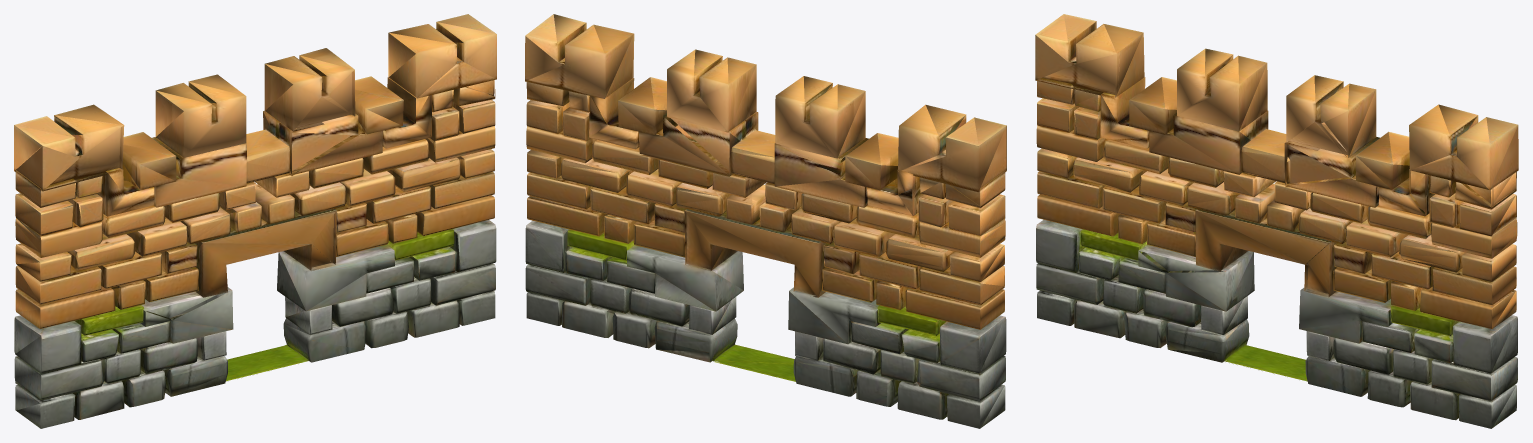
File: battlement.glb
The picture shows the model from 3 angles, left to right: view 1: azimuth 30°, elevation 25°; view 2: azimuth 150°, elevation 25°; view 3: azimuth 330°, elevation 25°; orthographic projection.
Bounding box in the file's own units: 2 × 1.2 × 0.25.
Materials: 1 (1 with a texture image).
